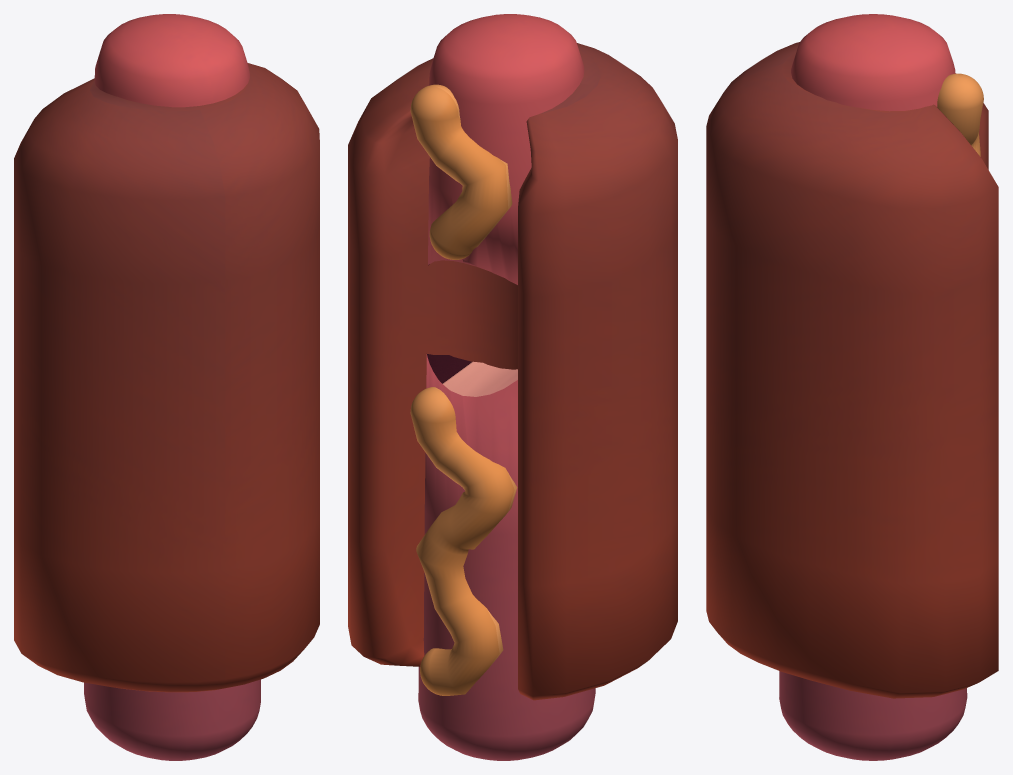
The model's file is HotDog-Costume.fbx.
The picture shows the model from 3 angles, left to right: view 1: azimuth 30°, elevation 25°; view 2: azimuth 150°, elevation 25°; view 3: azimuth 270°, elevation 25°; orthographic projection.
Visible parts, largest first — view 1: Mustard.001; view 2: Mustard.001; view 3: Mustard.001.
Part boxes in pixels (left/top/right/bottom): Mustard.001: left=14, top=14, right=319, bottom=760; Mustard.001: left=348, top=14, right=677, bottom=760; Mustard.001: left=706, top=14, right=998, bottom=760.
Bounding box in the file's own units: 492 × 1204 × 441.
